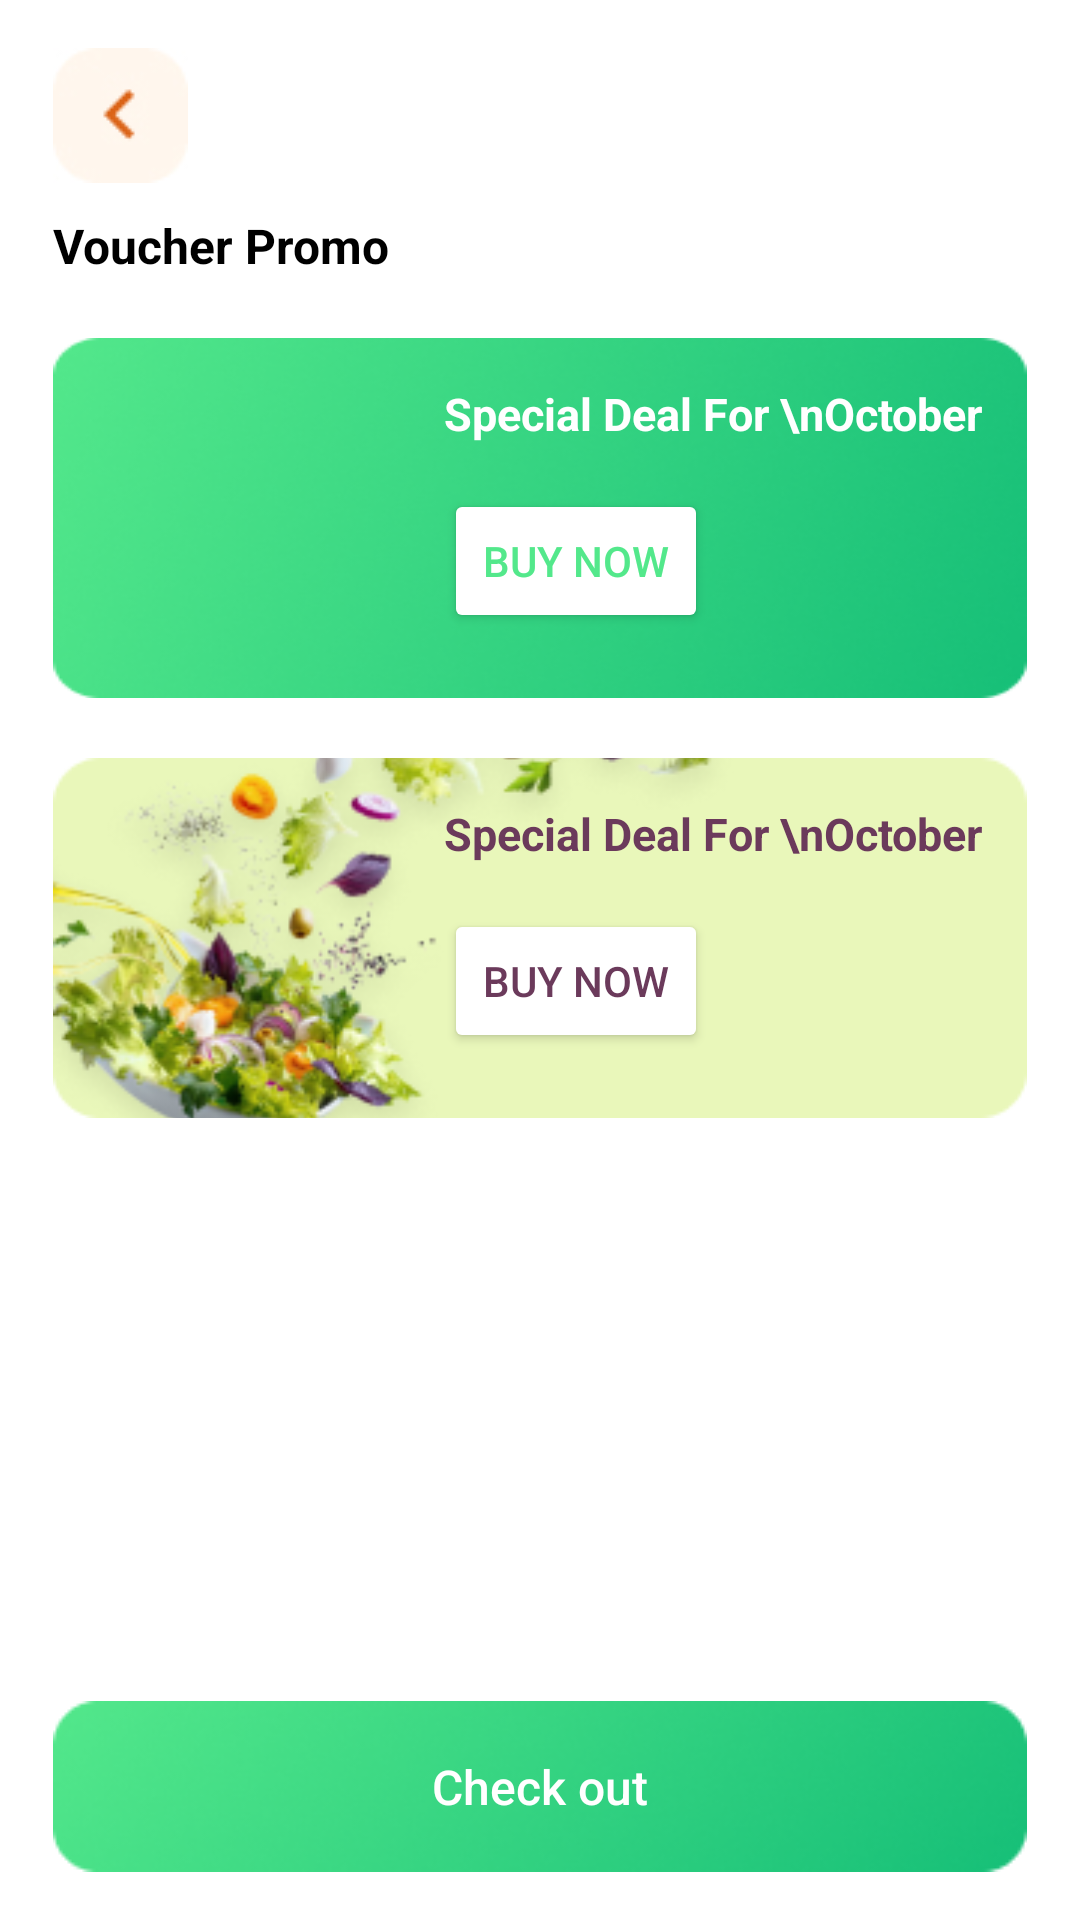

Icons on this 1080x1920 Android screen, each with the point to tap as (x=x, y=y):
iconback: (x=119, y=115)
